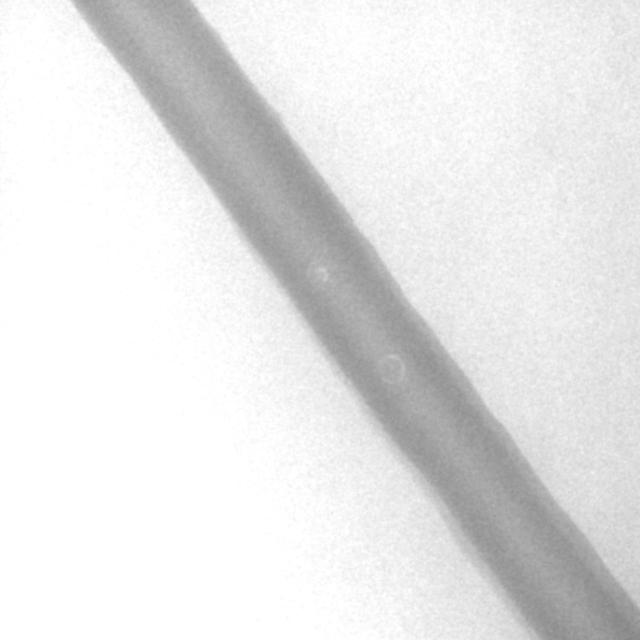air-hole: (317, 265, 328, 284)
